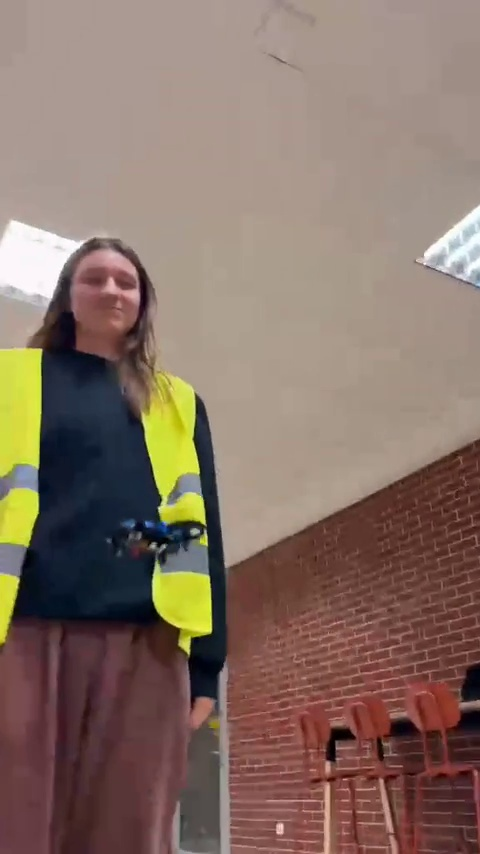drone: (102, 523, 207, 566)
vest: (0, 235, 230, 841)
